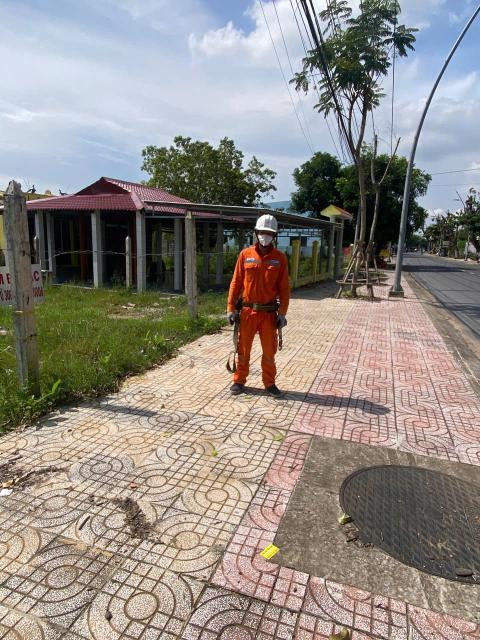gloves: (274, 311, 291, 328), (223, 312, 237, 327)
harness: (234, 293, 282, 315)
helmet: (253, 214, 284, 234)
shoes: (264, 379, 284, 401), (226, 381, 247, 396)
